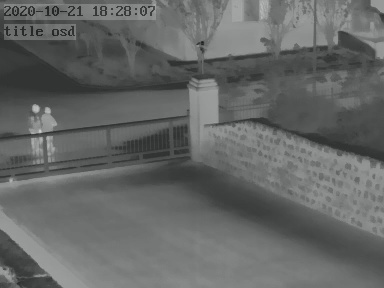person: (42, 104, 60, 157), (26, 102, 43, 151)
